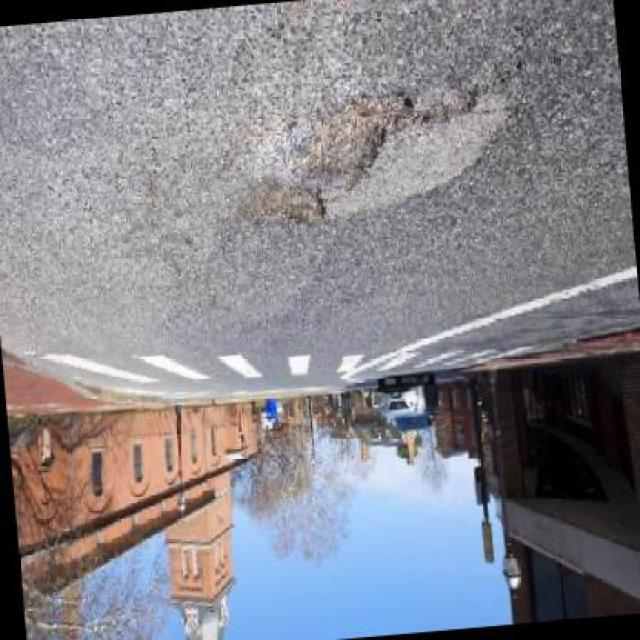pothole: (306, 82, 425, 190), (234, 176, 331, 238)
